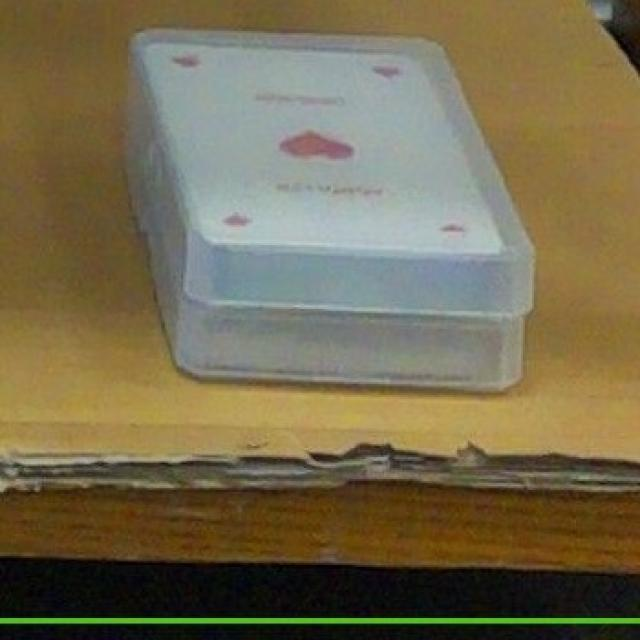Jasskarte: (124, 26, 533, 320), (121, 116, 524, 393)
